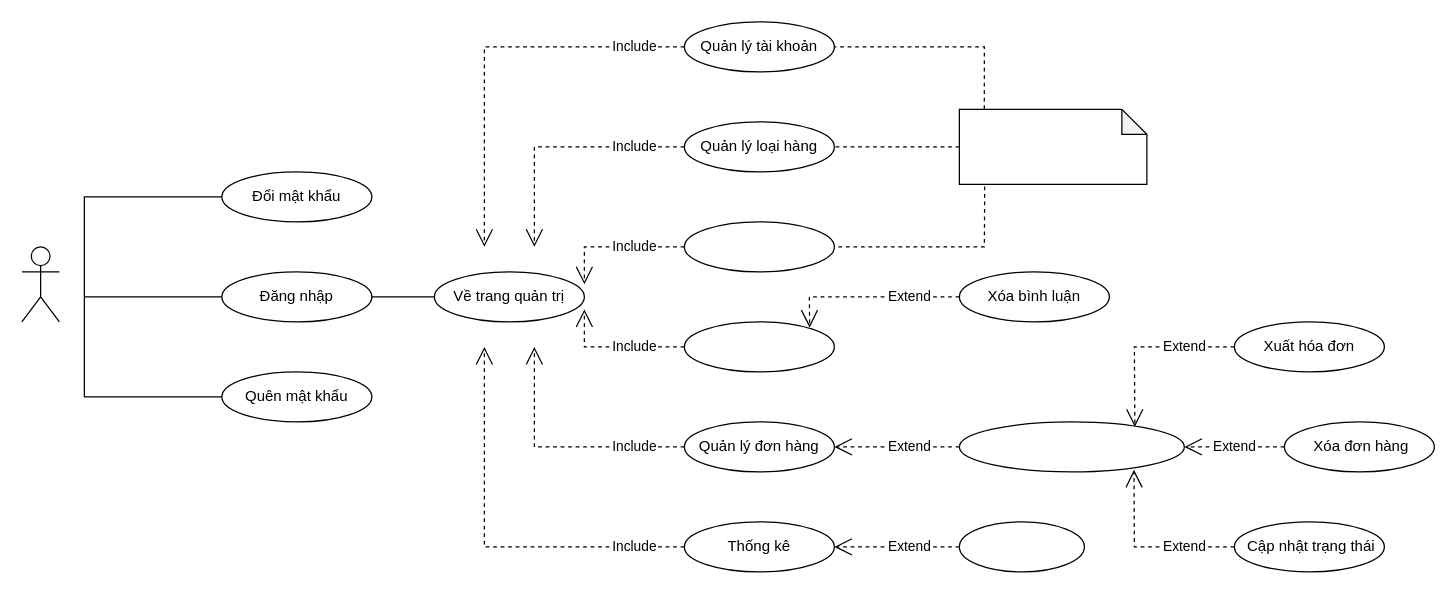
This 1456x594 diagram has some shape labels left out. The shapes that lost their labels are listed below. From the top down, each one's centre as x and y in pixels, then its label:
the point at 1052,146: Xem, thêm, cật nhập, xóa
the point at 758,246: Quản lý sản phẩm
the point at 40,284: Admin
the point at 758,346: Quản lý bình luận
the point at 1071,446: Xem chi tiết đơn hàng
the point at 1021,546: Xem biểu đồ
